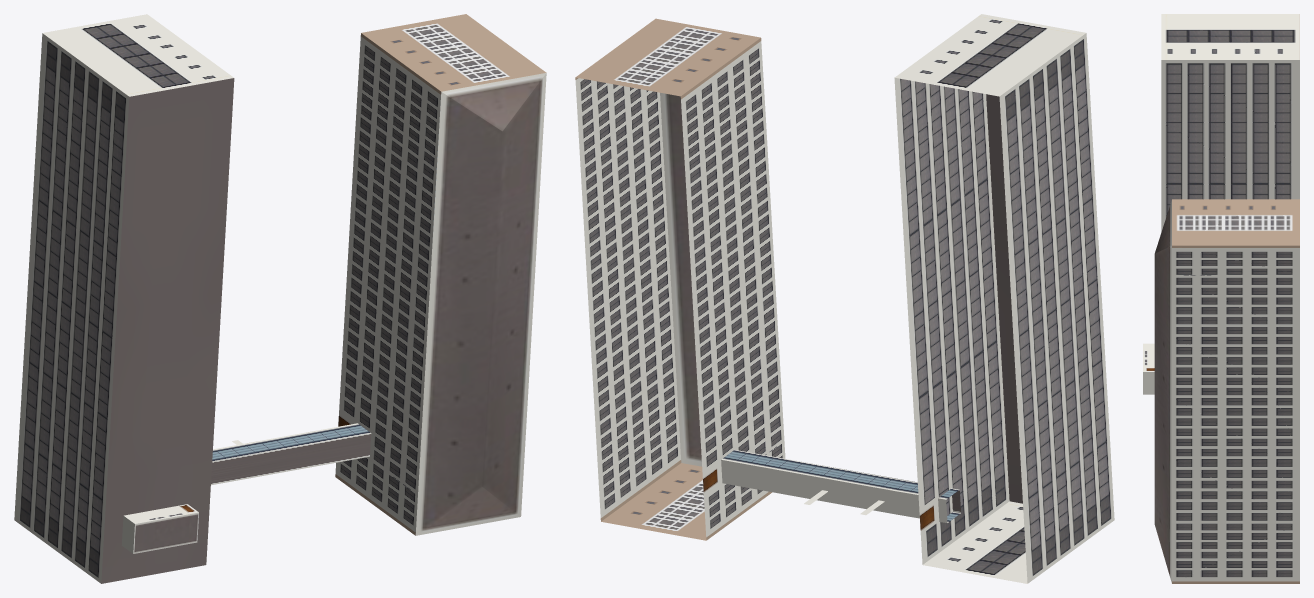
Rendered from DEU_BL0405_KARLSRUHE_V_D_L_UND_D_BUNDES_L.OBJ.
3 views of the same model, side by side, from view 1: azimuth 30°, elevation 25°; view 2: azimuth 150°, elevation 25°; view 3: azimuth 270°, elevation 25° (orthographic). The views are drawn at different scales.
Parts seen in each view (by area): view 1: Light; view 2: Light; view 3: Light.
Part boxes in pixels (bbox=[...]): Light: bbox=[14, 14, 546, 583]; Light: bbox=[575, 14, 1114, 583]; Light: bbox=[1143, 14, 1299, 583].
Bounding box in the file's own units: 67.33 × 74.33 × 25.41.
1 material, 1 textured.
